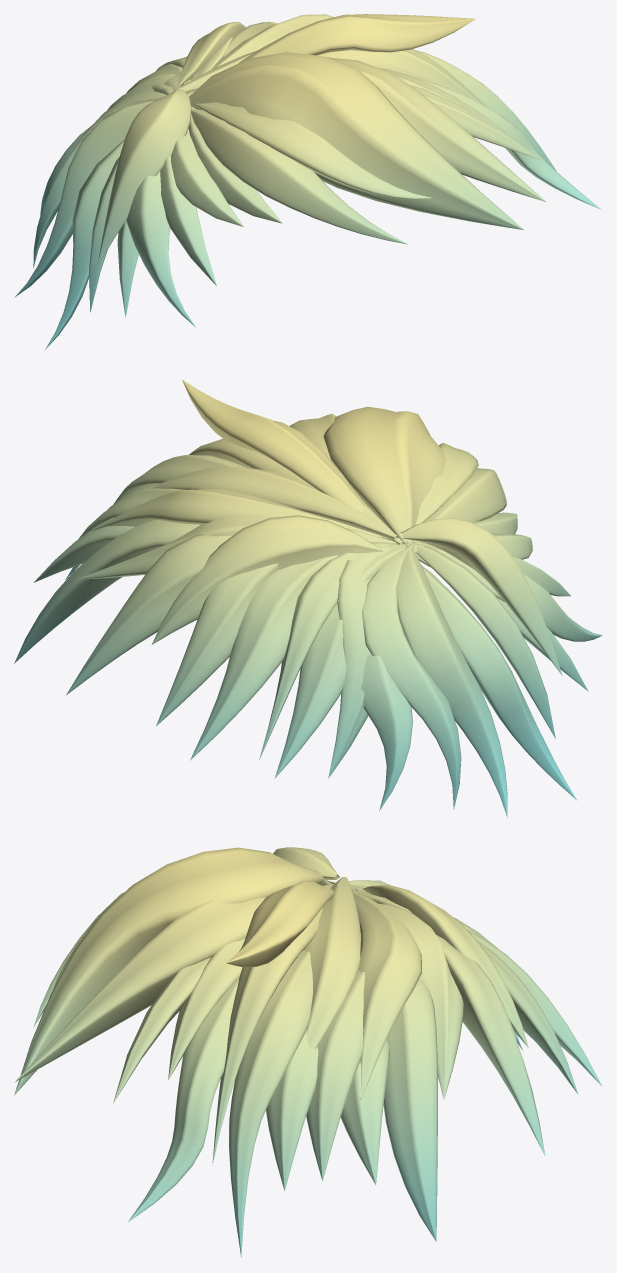
File: haird1.fbx
3 renders of one model, top to bottom at view 1: azimuth 30°, elevation 25°; view 2: azimuth 150°, elevation 25°; view 3: azimuth 270°, elevation 25°, orthographic. The views are drawn at different scales.
Visible parts, largest first — view 1: NurbsPath.034; view 2: NurbsPath.034; view 3: NurbsPath.034.
Boxes of the visible parts, box(x1,y1,x2,y2) form: NurbsPath.034: box(14, 14, 602, 349); NurbsPath.034: box(14, 379, 602, 817); NurbsPath.034: box(14, 847, 602, 1256).
Bounding box in the file's own units: 259 × 294 × 153.
